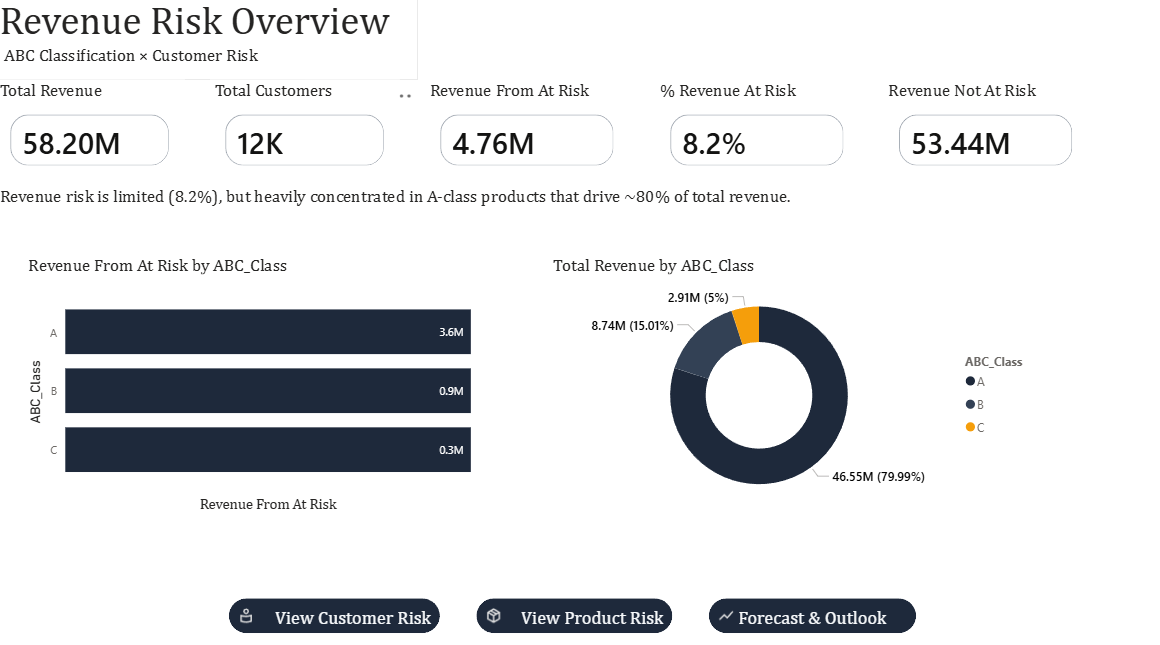

What the dashboard file says about the page in this screenshot:
{"tool":"powerbi","page":{"name":"Page 1","canvas":[1280,720],"ordinal":0},"visuals":[{"type":"textbox","box":[0,0,464,96],"z":0},{"type":"cardVisual","title":"Total Revenue","fields":{"Data":["FactSales.Total Revenue"]},"box":[0,96,208,112],"z":1000},{"type":"cardVisual","title":"Revenue From At Risk","fields":{"Data":["FactSales.Revenue From At Risk"]},"box":[472,96,224,112],"z":2000},{"type":"cardVisual","title":"% Revenue At Risk","fields":{"Data":["FactSales.Pct Revenue At Risk"]},"box":[724,96,224,112],"z":3000},{"type":"clusteredBarChart","fields":{"Category":["vw_ProductABC.ABC_Class"],"Y":["_Measures.Revenue From At Risk"]},"box":[32,288,496,288],"z":4000},{"type":"cardVisual","title":"Revenue Not At Risk","fields":{"Data":["FactSales.Revenue Not At Risk"]},"box":[976,96,224,112],"z":5000},{"type":"donutChart","fields":{"Category":["vw_ProductABC.ABC_Class"],"Y":["FactSales.Total Revenue"]},"box":[608,288,544,288],"z":6000},{"type":"textbox","box":[0,208.6,975.6,48],"z":7000},{"type":"actionButton","box":[256.6,665.5,231.9,38.4],"z":8000},{"type":"actionButton","box":[528.3,665.5,215.4,38.4],"z":9000},{"type":"actionButton","box":[783.5,665.5,227.8,38.4],"z":10000},{"type":"cardVisual","title":"Total Customers","fields":{"Data":["_Measures.Customer Count"]},"box":[236,96,208,112],"z":11000}]}

Visuals, with their boxes in screenshot pixels (x1, y1, x2, y2), scaled from the page's 1280x720 canvas onto the 1160x645 screenshot:
textbox: [left=0, top=0, right=420, bottom=86]
"Total Revenue" cardVisual: [left=0, top=86, right=188, bottom=186]
"Revenue From At Risk" cardVisual: [left=428, top=86, right=631, bottom=186]
"% Revenue At Risk" cardVisual: [left=656, top=86, right=859, bottom=186]
clusteredBarChart - vw_ProductABC.ABC_Class x _Measures.Revenue From At Risk: [left=29, top=258, right=478, bottom=516]
"Revenue Not At Risk" cardVisual: [left=884, top=86, right=1088, bottom=186]
donutChart - vw_ProductABC.ABC_Class x FactSales.Total Revenue: [left=551, top=258, right=1044, bottom=516]
textbox: [left=0, top=187, right=884, bottom=230]
actionButton: [left=233, top=596, right=443, bottom=631]
actionButton: [left=479, top=596, right=674, bottom=631]
actionButton: [left=710, top=596, right=916, bottom=631]
"Total Customers" cardVisual: [left=214, top=86, right=402, bottom=186]
